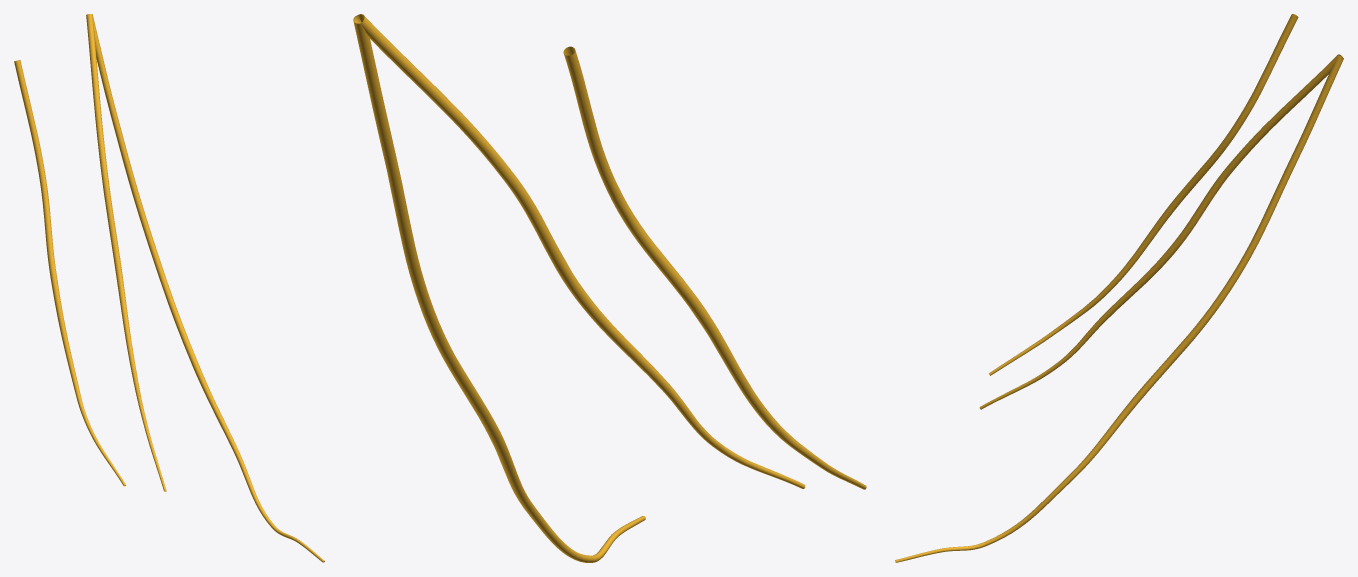
File: nervoso-dorsal-digital-branches-of-ulnar-nerve-l.glb
The picture shows the model from 3 angles, left to right: view 1: azimuth 30°, elevation 25°; view 2: azimuth 150°, elevation 25°; view 3: azimuth 270°, elevation 25°; orthographic projection. The views are drawn at different scales.
Parts seen in each view (by area): view 1: Dorsal digital branches of ulnar nerve.l; view 2: Dorsal digital branches of ulnar nerve.l; view 3: Dorsal digital branches of ulnar nerve.l.
Part boxes in pixels (box(x1,y1,x2,y2)): Dorsal digital branches of ulnar nerve.l: box(14, 14, 324, 562); Dorsal digital branches of ulnar nerve.l: box(353, 14, 866, 562); Dorsal digital branches of ulnar nerve.l: box(895, 14, 1343, 562).
Size of the model in its own units: 0.0292 by 0.0703 by 0.0591.
